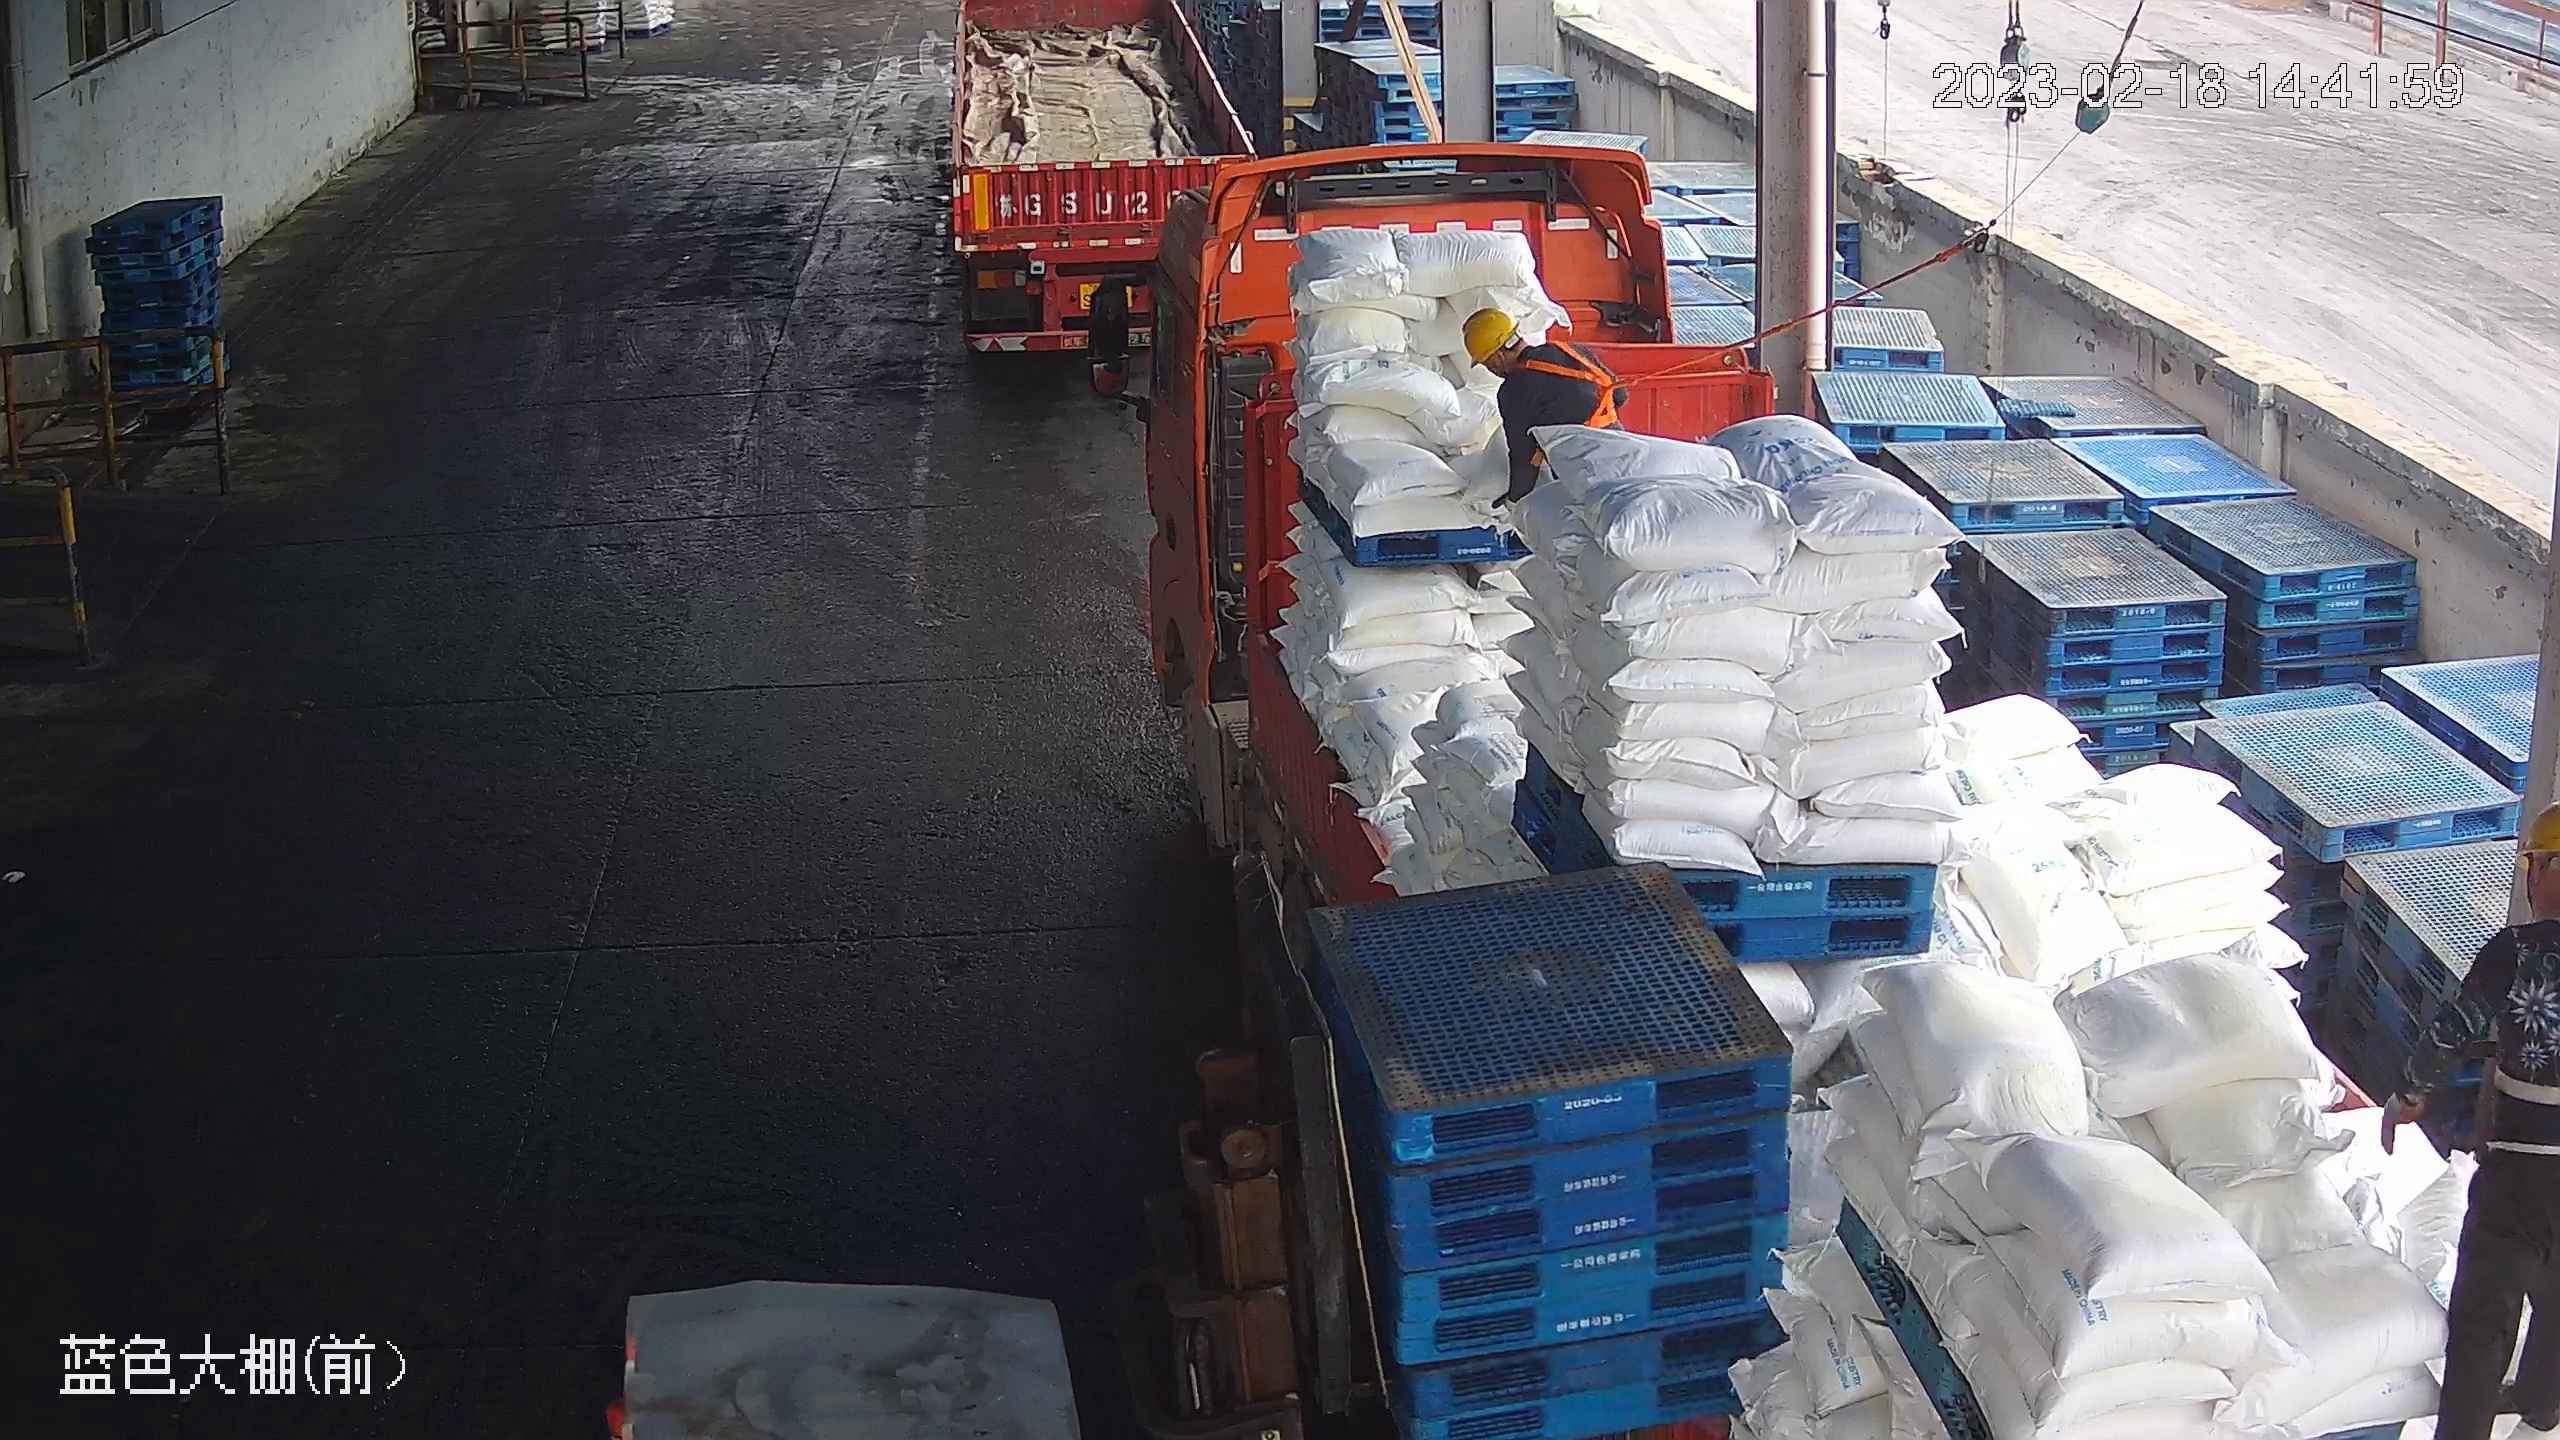belt: (2490, 915, 2560, 1111), (1520, 336, 1624, 430)
head: (1460, 302, 1591, 398)
helmet: (1458, 301, 1520, 366)
people: (2379, 791, 2560, 1438), (1458, 302, 1626, 525)
truck: (1086, 144, 2557, 1440), (945, 1, 1262, 360)
